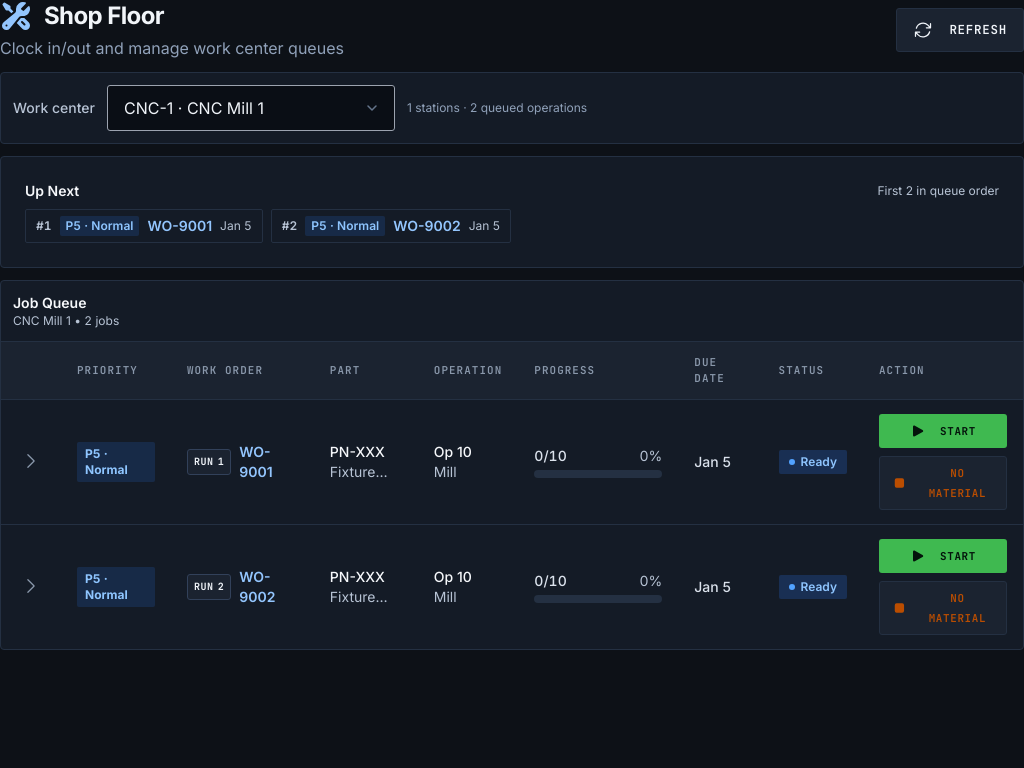
ShopFloor material-blocker InputDialog › consecutive opens carry each row's own context — no stale text from the previous dialog
The width and height of the screenshot is (1024, 768).
// Open row A's dialog and dirty the note.
Step 1. Click the 1st button "No Material" → (943, 483), box [879, 456, 1007, 510]
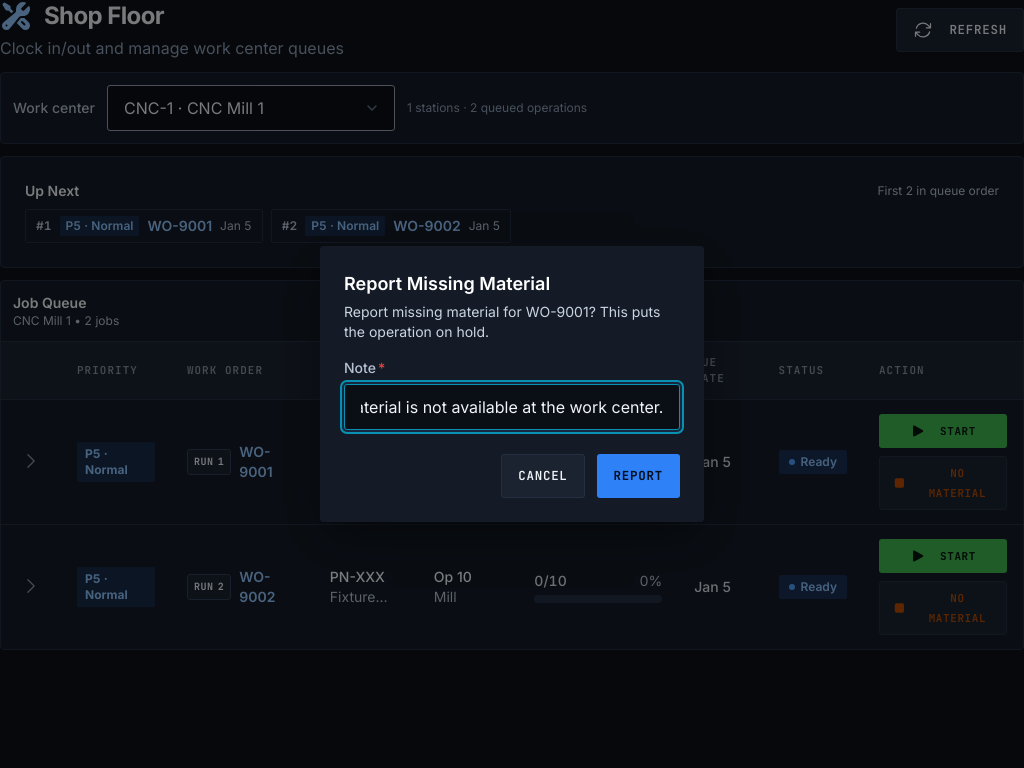
Expected: the dialog is shown, [320, 246, 704, 522]
Expected: the text "Report missing material for WO-9001?" is shown, [344, 303, 660, 340]
Step 2. Replace the text in the field labelled "Note*" with "Row A custom note" → (512, 407), box [344, 384, 680, 430]
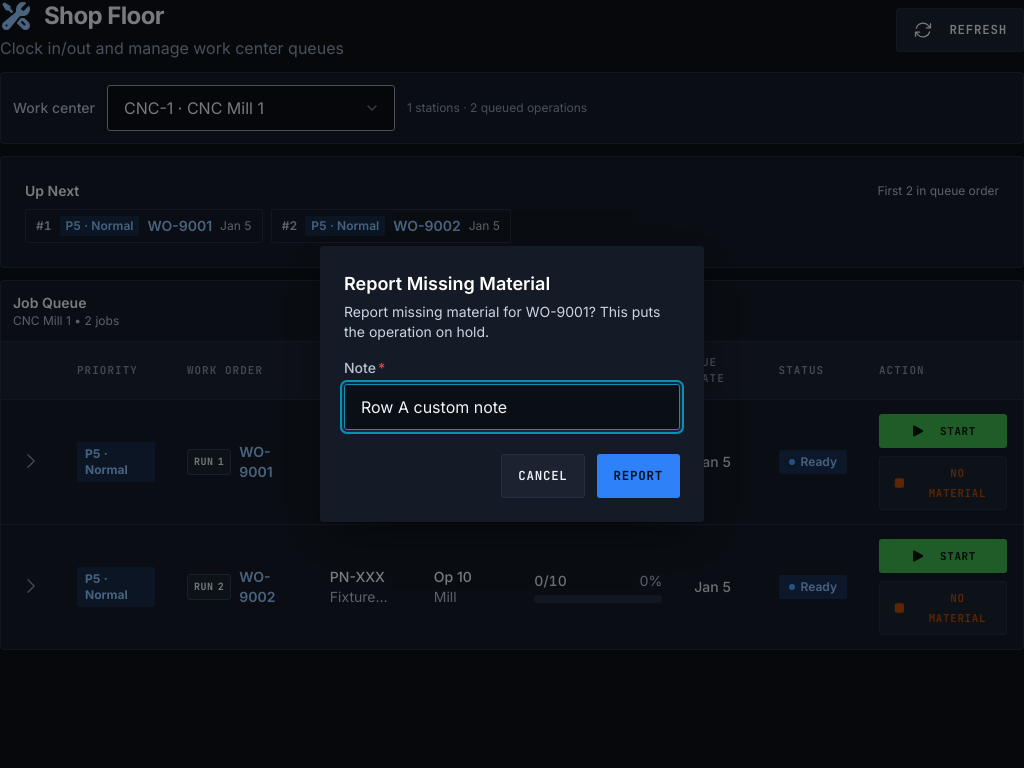
Step 3. Click the button "Cancel" → (543, 476), box [501, 454, 585, 498]
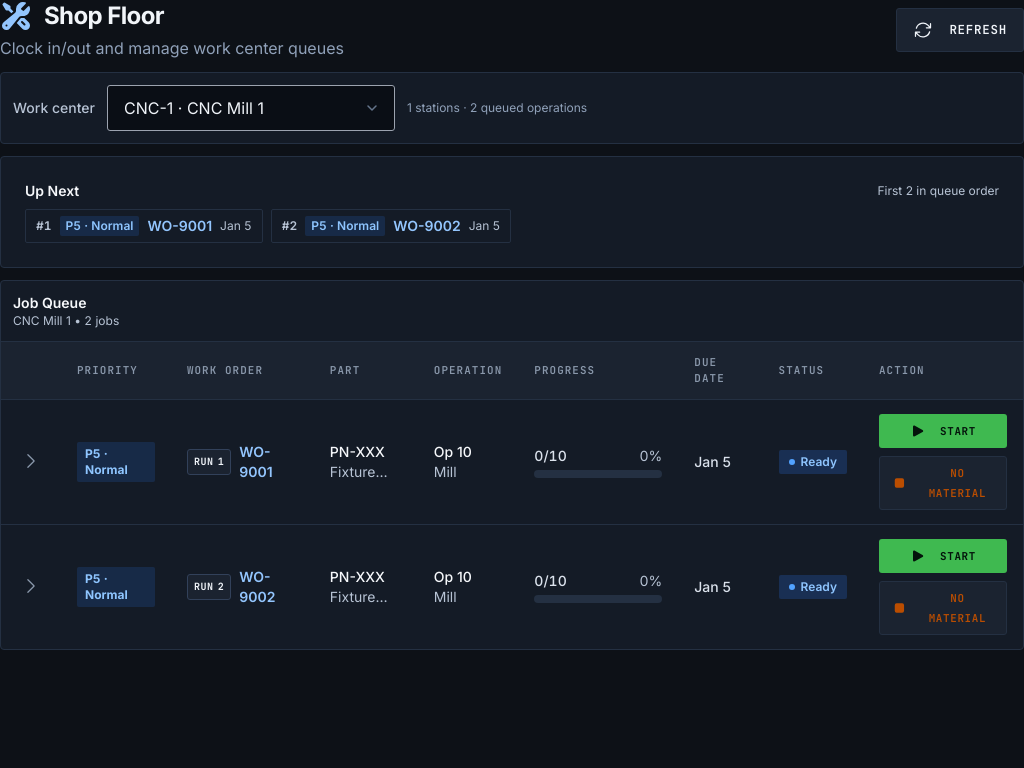
Expected: the dialog is gone
// Open row B's dialog: B's message, and the note re-seeded to the default.
Step 4. Click the 2nd button "No Material" → (943, 608), box [879, 581, 1007, 635]
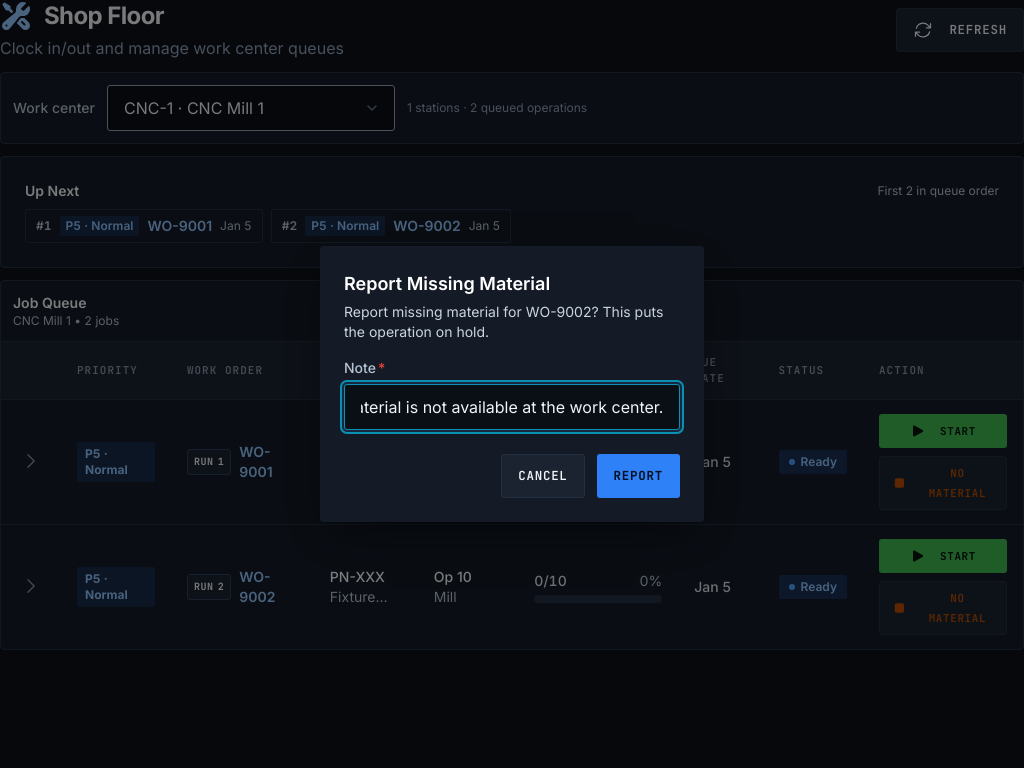
Expected: the dialog does not show "WO-9001"
Expected: the text "Report missing material for WO-9002?" is shown, [344, 303, 663, 340]
Expected: the field labelled "Note*" holds "Operator reported material is not available at the work center.", [344, 384, 680, 430]
